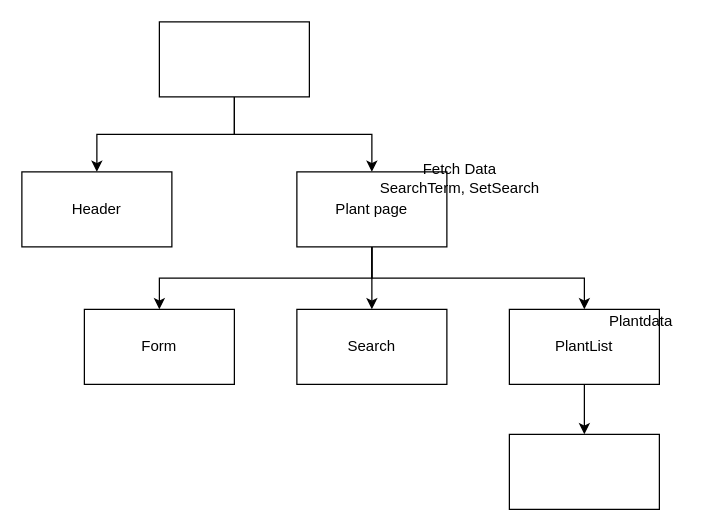
Some shapes in this 706 by 531 pixel diagram are drawn without their labels. The centre of each missing label's shape, as x and y in pixels:
"app" goes at pixel 233 59.
"plantCard" goes at pixel 583 471.
